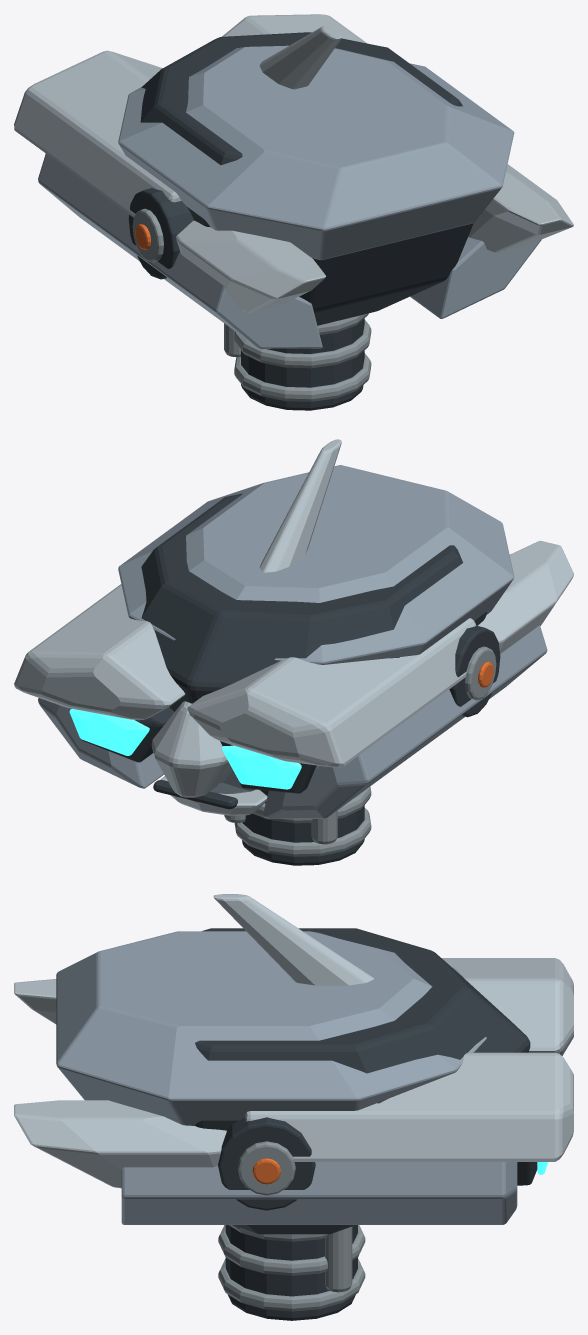
The picture shows the model from 3 angles, top to bottom: view 1: azimuth 30°, elevation 25°; view 2: azimuth 150°, elevation 25°; view 3: azimuth 270°, elevation 25°; orthographic projection. The views are drawn at different scales.
Parts seen in each view (by area): view 1: Head_hero; view 2: Head_hero; view 3: Head_hero.
Boxes of the visible parts, box(x1,y1,x2,y2) form: Head_hero: box(14, 14, 573, 410); Head_hero: box(14, 439, 573, 865); Head_hero: box(14, 894, 573, 1320).
Bounding box in the file's own units: 0.6016 × 0.6212 × 0.7899.
